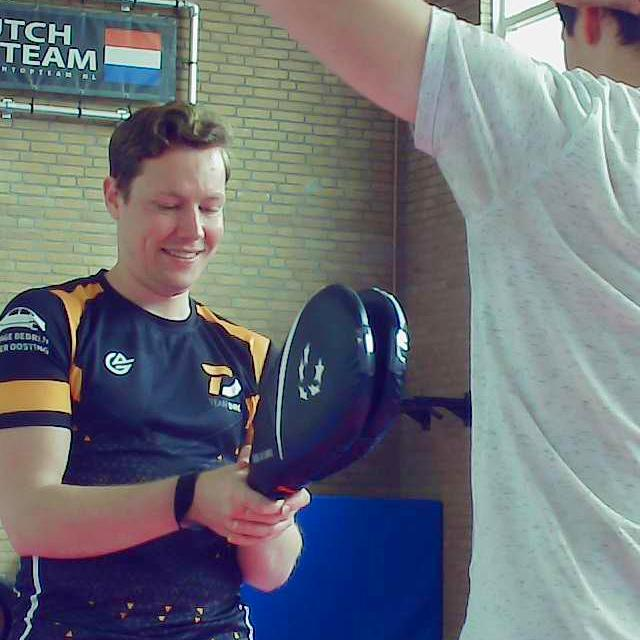paddle: (247, 284, 411, 502)
